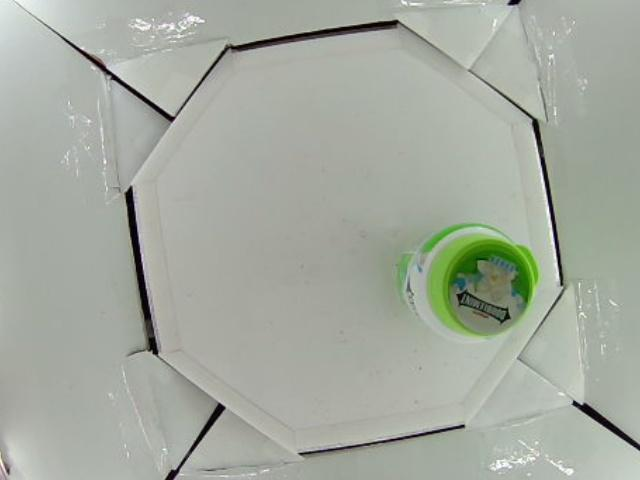Bottle: (396, 224, 543, 343)
